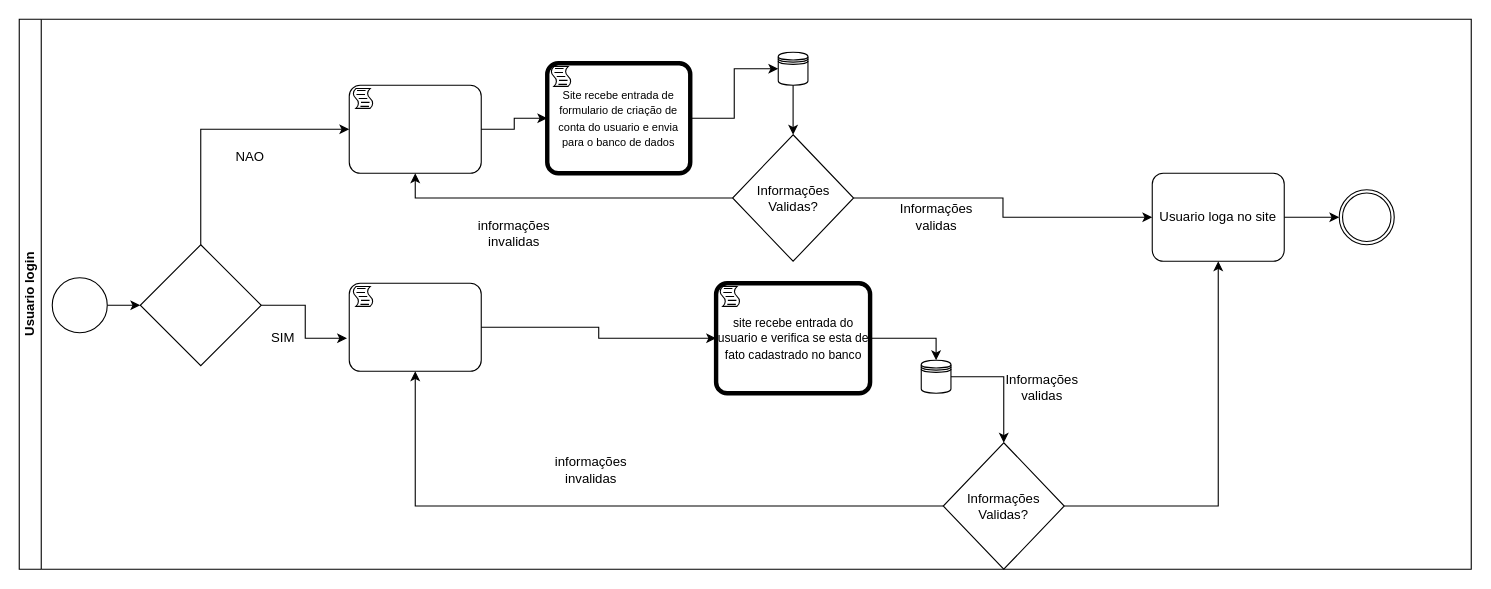
Some shapes in this 1491 by 589 pixel diagram are drawn without their labels. Each missing label, with the centre of its shape:
Usuario cria conta no site: the point at 414,128
Usuario Loga na conta: the point at 414,326
Usuario tem conta?: the point at 200,305
